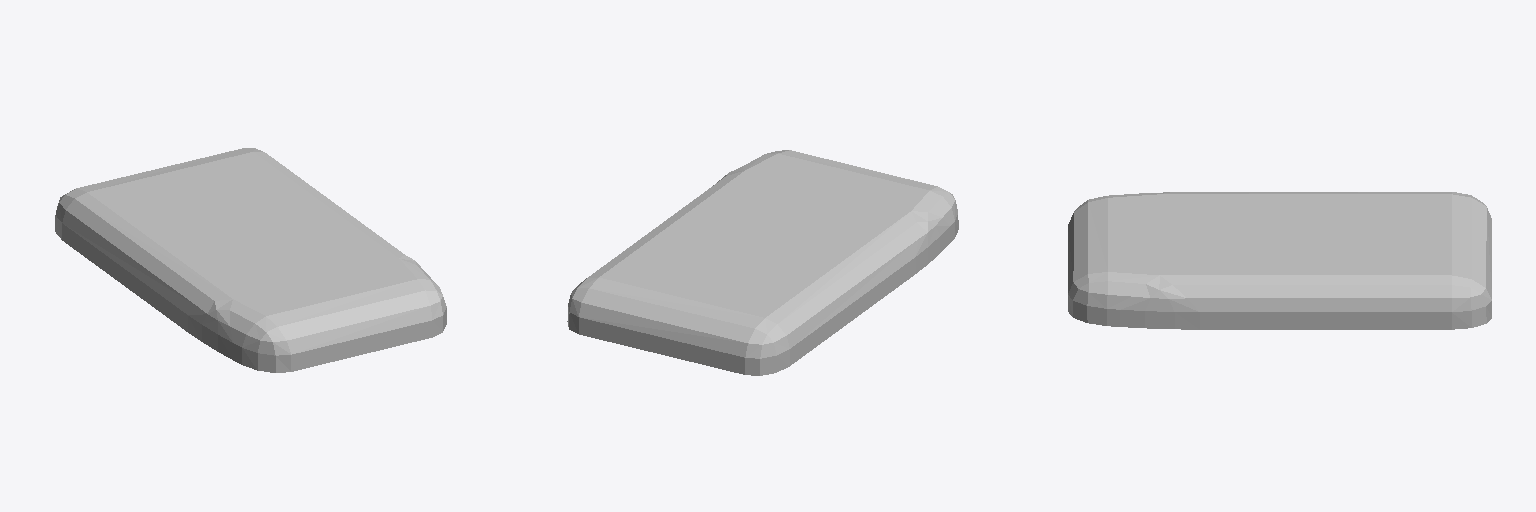
The model's file is pda_firstperson.obj.
The picture shows the model from 3 angles: view 1: azimuth 30°, elevation 25°; view 2: azimuth 150°, elevation 25°; view 3: azimuth 270°, elevation 25°; orthographic projection.
Parts seen in each view (by area): view 1: Cube; view 2: Cube; view 3: Cube.
Boxes of the visible parts, <box> form: Cube: <box>55,148,446,372</box>; Cube: <box>567,150,958,375</box>; Cube: <box>1068,192,1491,329</box>.
Size of the model in its own units: 2.72 by 0.5092 by 4.63.